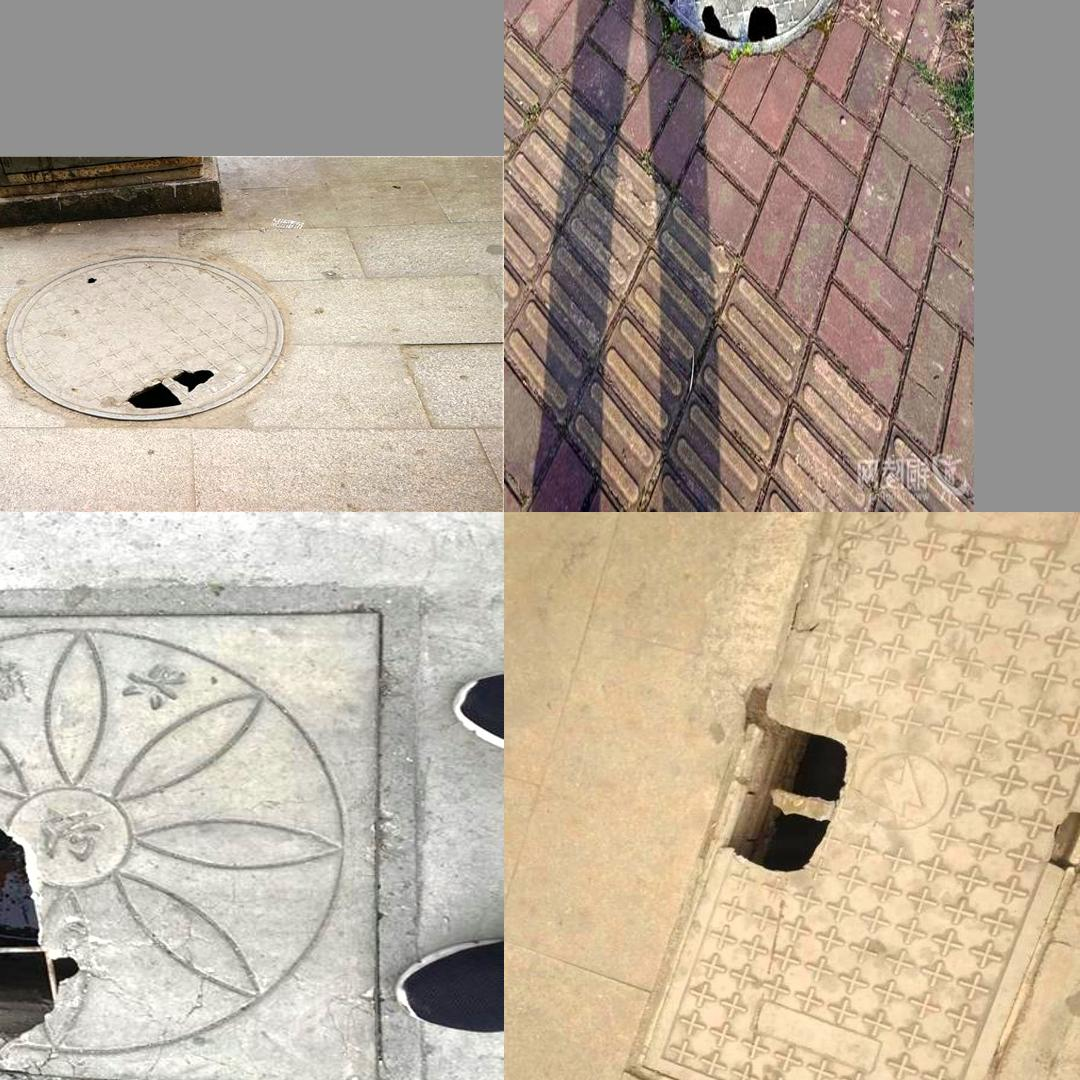broke: (585, 538, 1080, 1080), (0, 567, 434, 1080), (5, 252, 282, 420), (625, 0, 855, 66)
